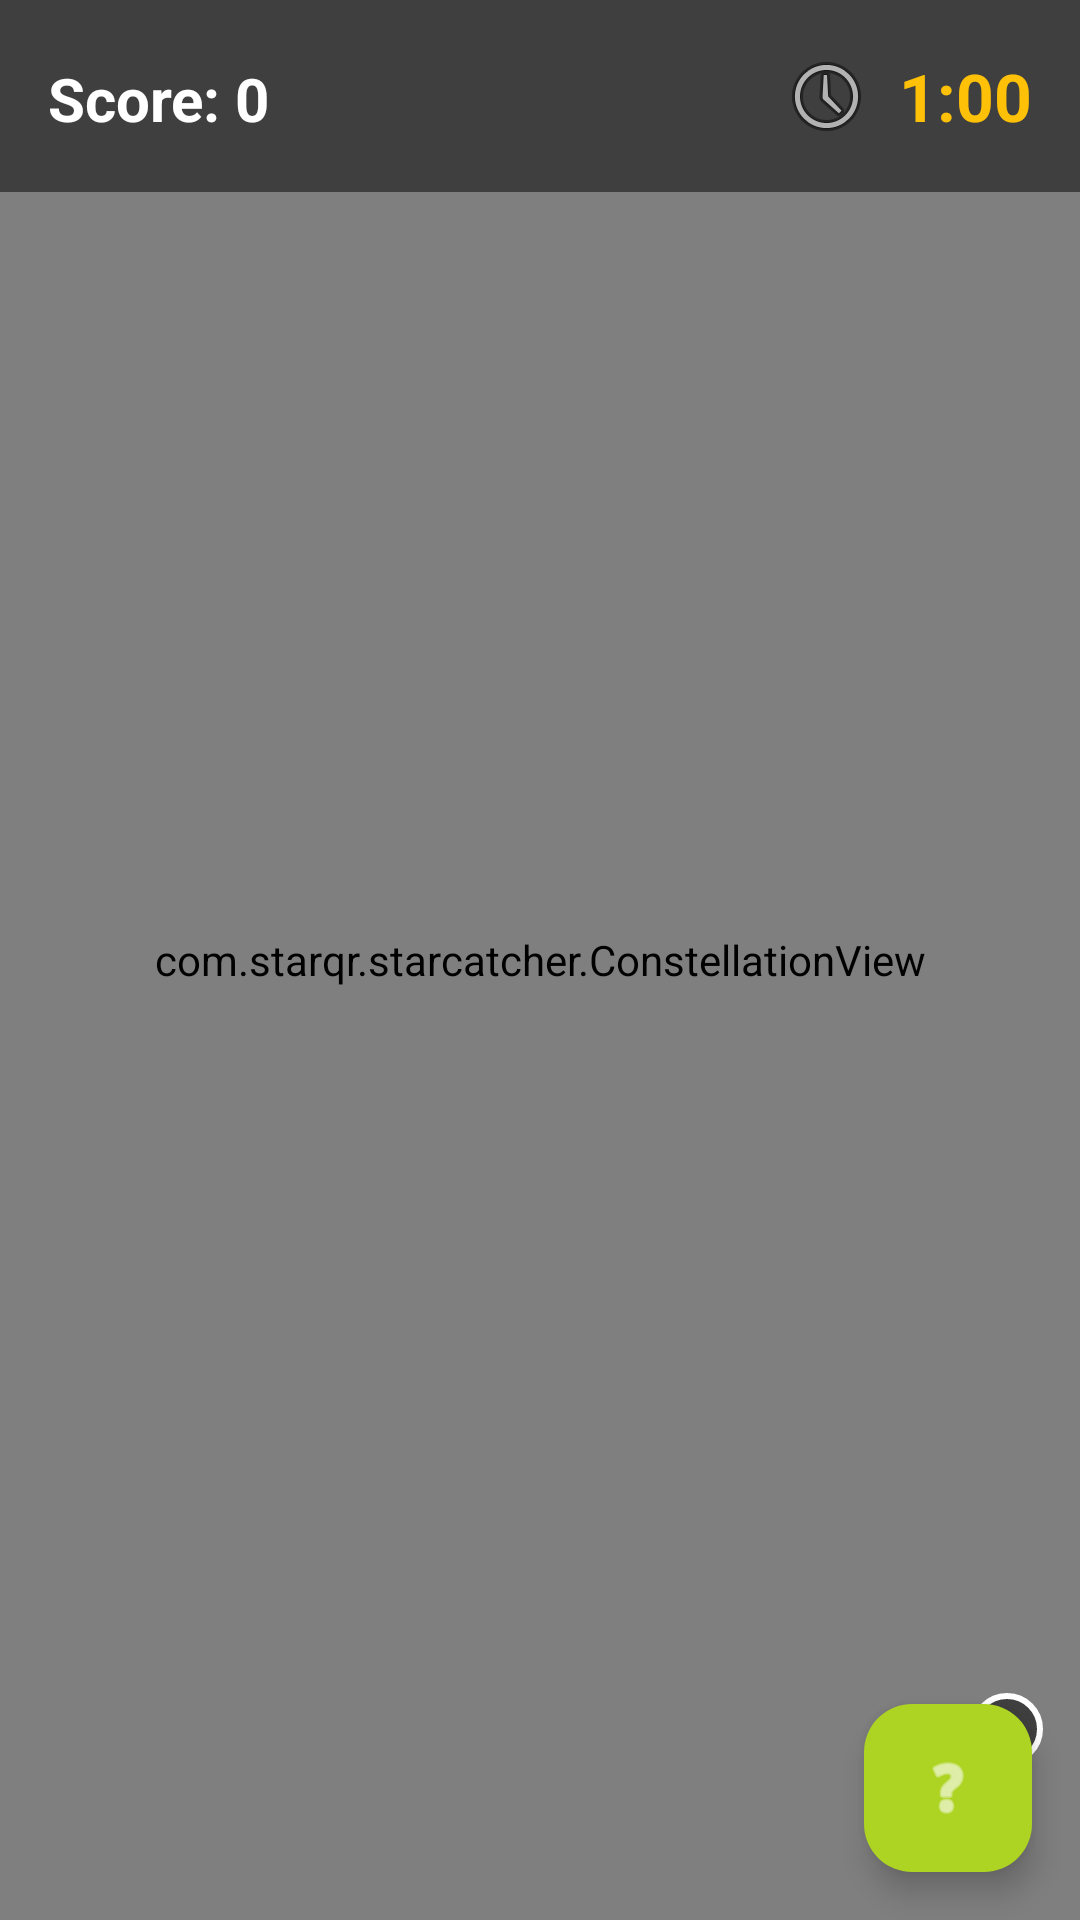

Where icons sit on this 1080px x 1920px app screen, as (x1, y1, x2, y2):
help: (864, 1704, 1032, 1872)
